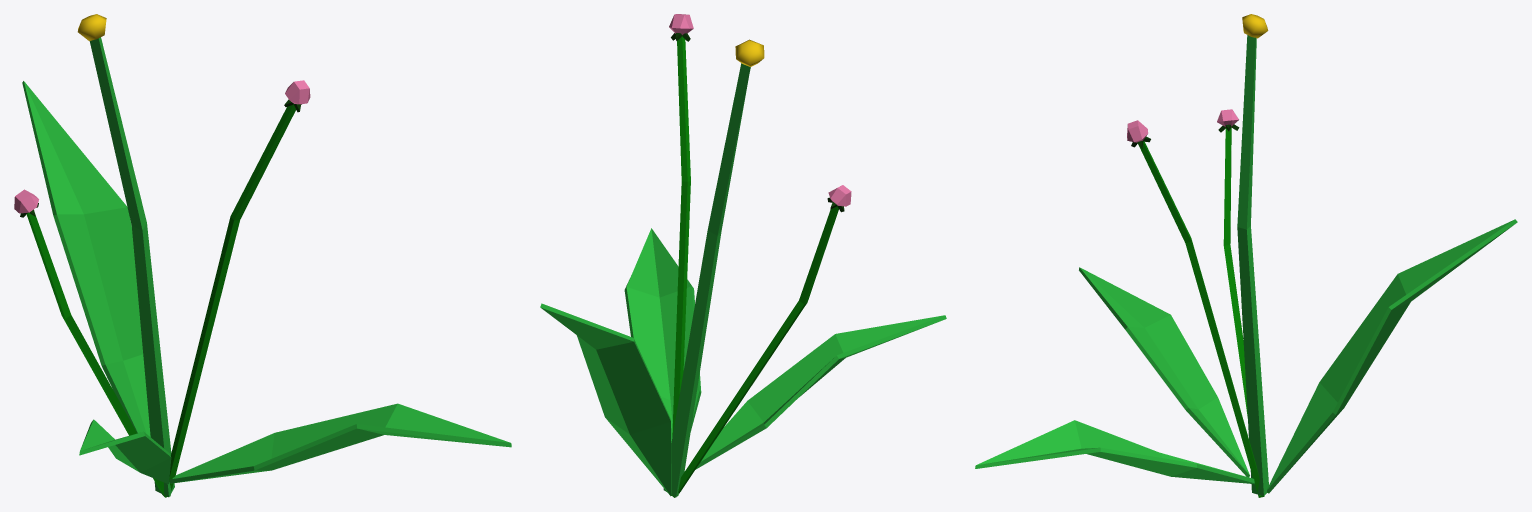
File: dandelion.fbx
3 renders of one model, left to right at view 1: azimuth 30°, elevation 25°; view 2: azimuth 150°, elevation 25°; view 3: azimuth 270°, elevation 25°, orthographic. The views are drawn at different scales.
Parts seen in each view (by area): view 1: Circle_008.006, Circle_008.005, Circle_008.001, Circle_008.002, Circle_008.003, Circle_008.004; view 2: Circle_008.006, Circle_008.005, Circle_008.001, Circle_008.004, Circle_008.002, Circle_008.003; view 3: Circle_008.006, Circle_008.004, Circle_008.001, Circle_008.005, Circle_008.002, Circle_008.003.
Boxes of the visible parts, left/top/right/bottom form: Circle_008.006: left=22, top=81, right=150, bottom=436; Circle_008.005: left=169, top=403, right=511, bottom=483; Circle_008.001: left=77, top=14, right=174, bottom=497; Circle_008.002: left=162, top=80, right=310, bottom=497; Circle_008.003: left=14, top=189, right=166, bottom=497; Circle_008.004: left=79, top=419, right=171, bottom=484; Circle_008.006: left=540, top=303, right=671, bottom=496; Circle_008.005: left=624, top=228, right=701, bottom=442; Circle_008.001: left=663, top=39, right=764, bottom=497; Circle_008.004: left=695, top=315, right=946, bottom=469; Circle_008.002: left=669, top=14, right=693, bottom=495; Circle_008.003: left=671, top=185, right=851, bottom=497; Circle_008.006: left=1267, top=219, right=1517, bottom=493; Circle_008.004: left=1079, top=267, right=1249, bottom=477; Circle_008.001: left=1237, top=14, right=1268, bottom=495; Circle_008.005: left=975, top=420, right=1254, bottom=484; Circle_008.002: left=1127, top=120, right=1264, bottom=497; Circle_008.003: left=1217, top=109, right=1260, bottom=495.
Bounding box in the file's own units: 62.24 × 79.91 × 87.69.
